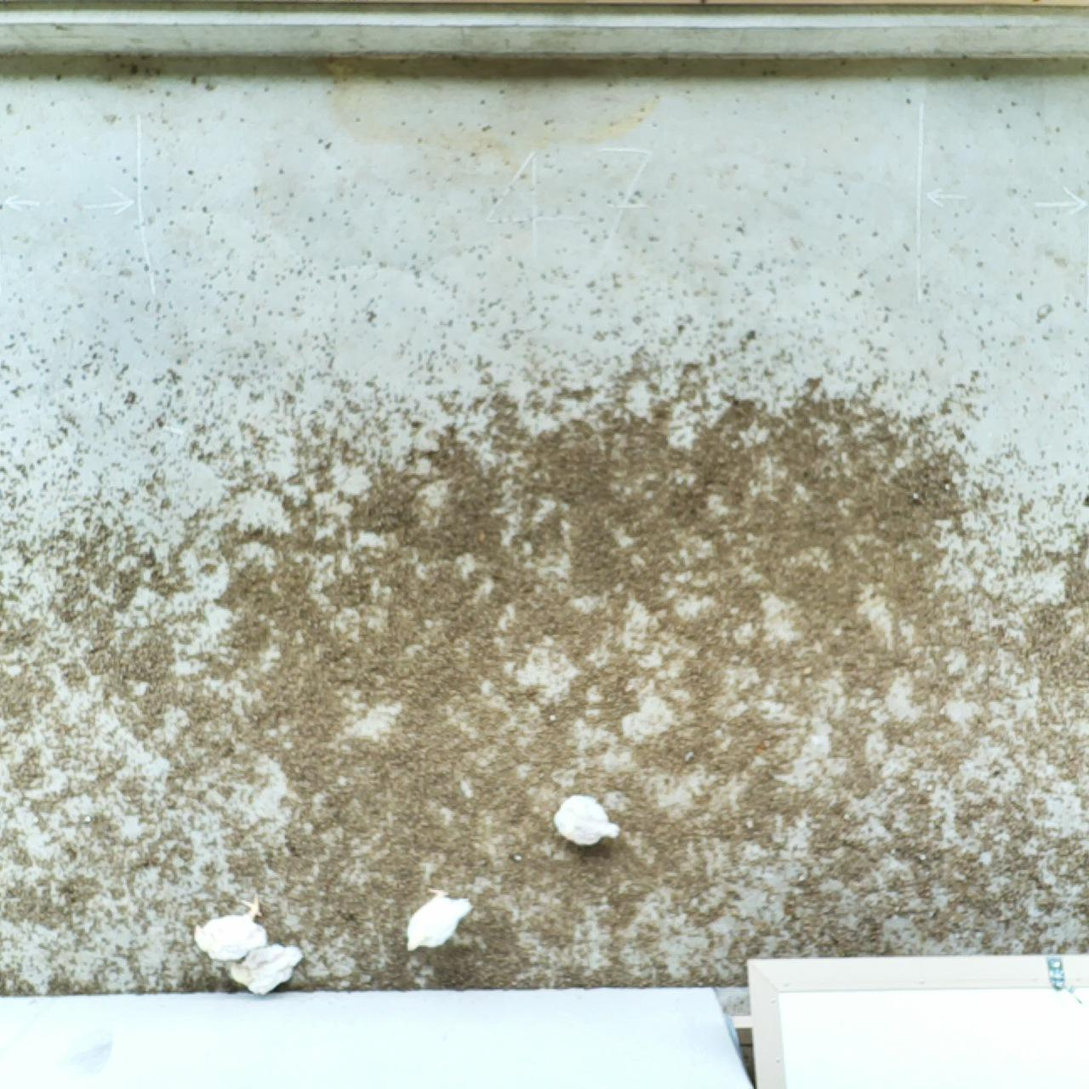chicken: (188, 893, 268, 965), (403, 881, 477, 955), (548, 789, 624, 852), (227, 941, 308, 999)
